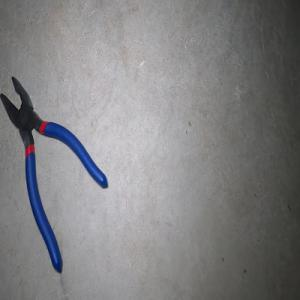Pliers: (0, 76, 107, 273)
